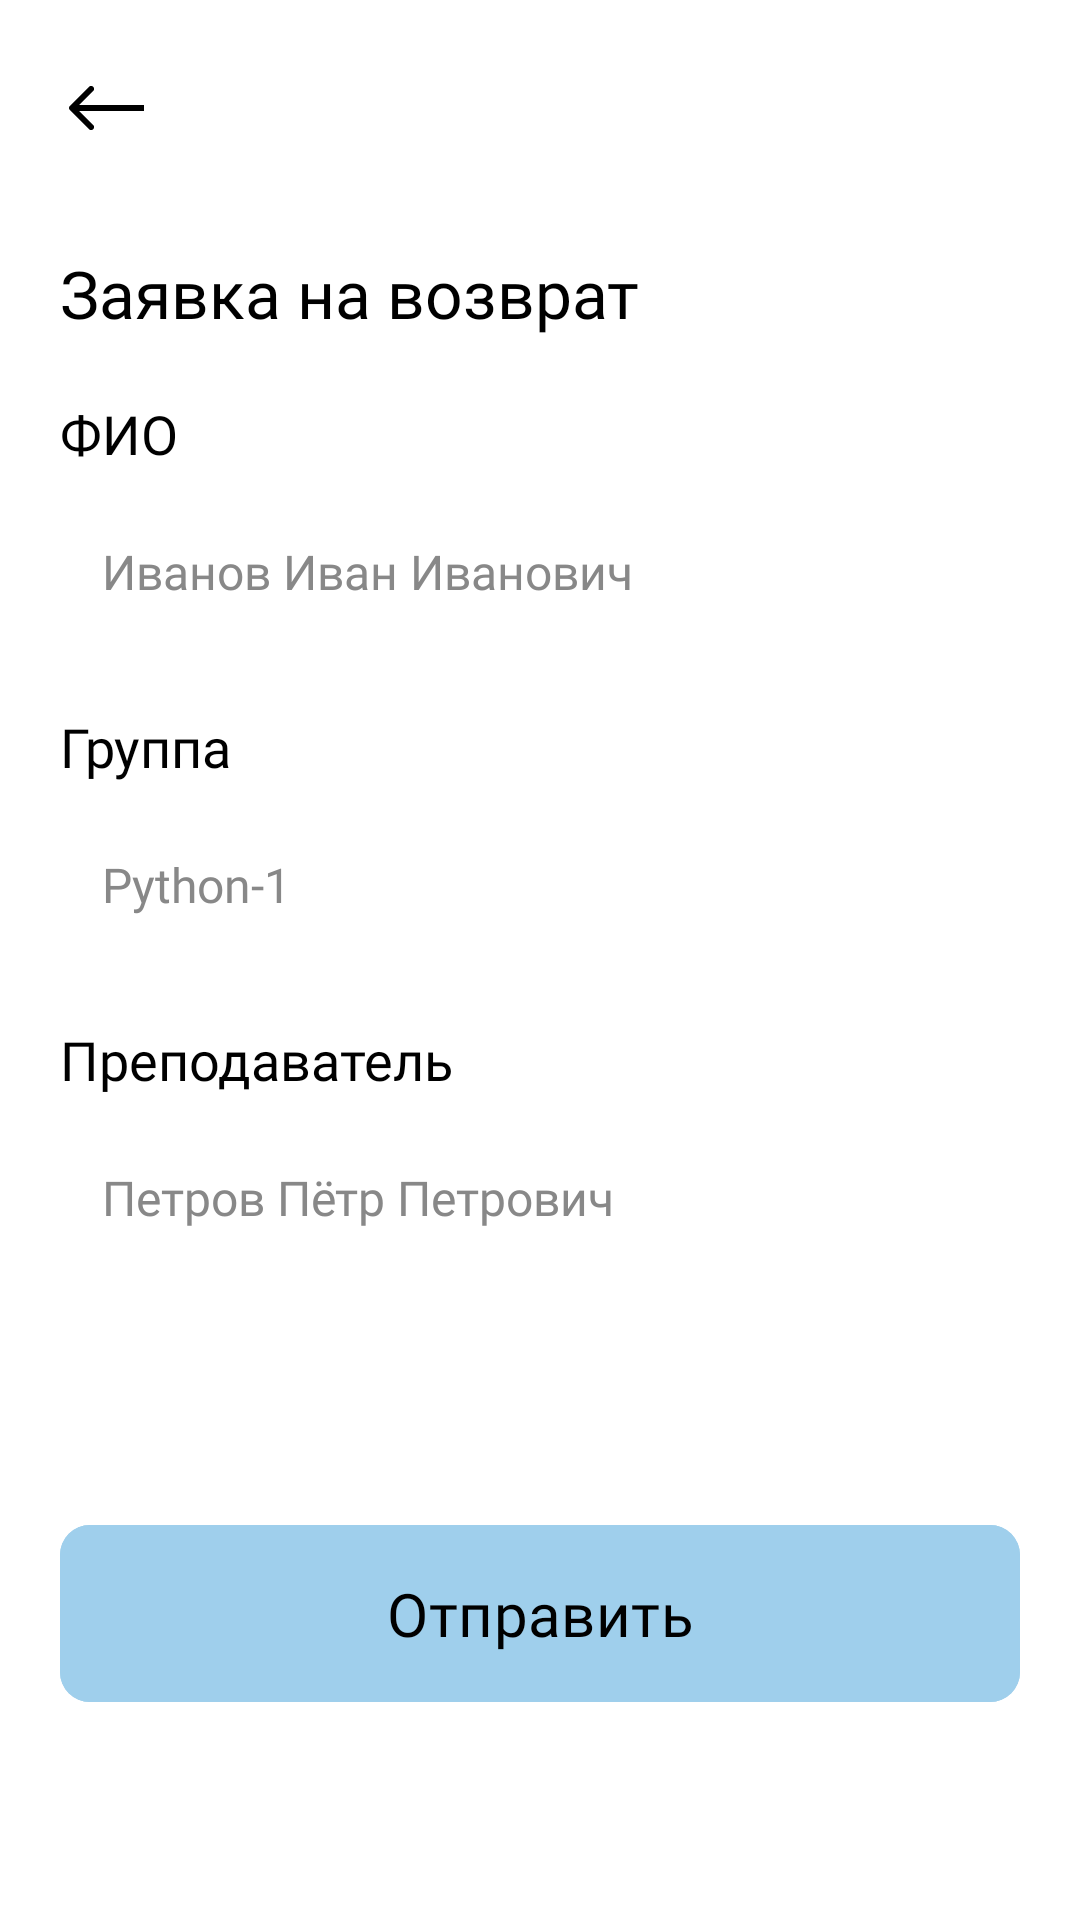

Icons on this 1080*1920 Android screen, each with the point to tap as point (x, y):
Назад: point (106, 108)
